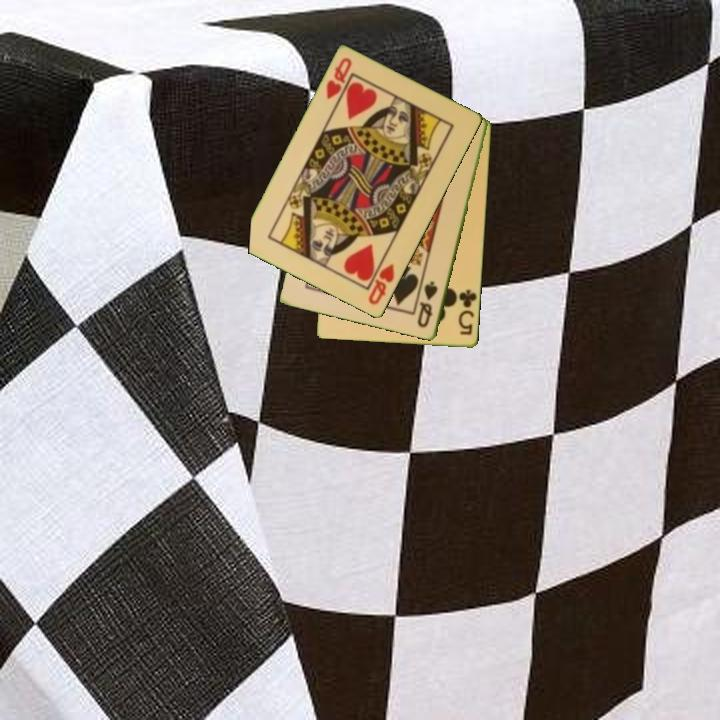5c: (455, 286, 479, 338)
Qh: (323, 54, 355, 103), (365, 260, 397, 308)
Qs: (414, 278, 441, 331)
